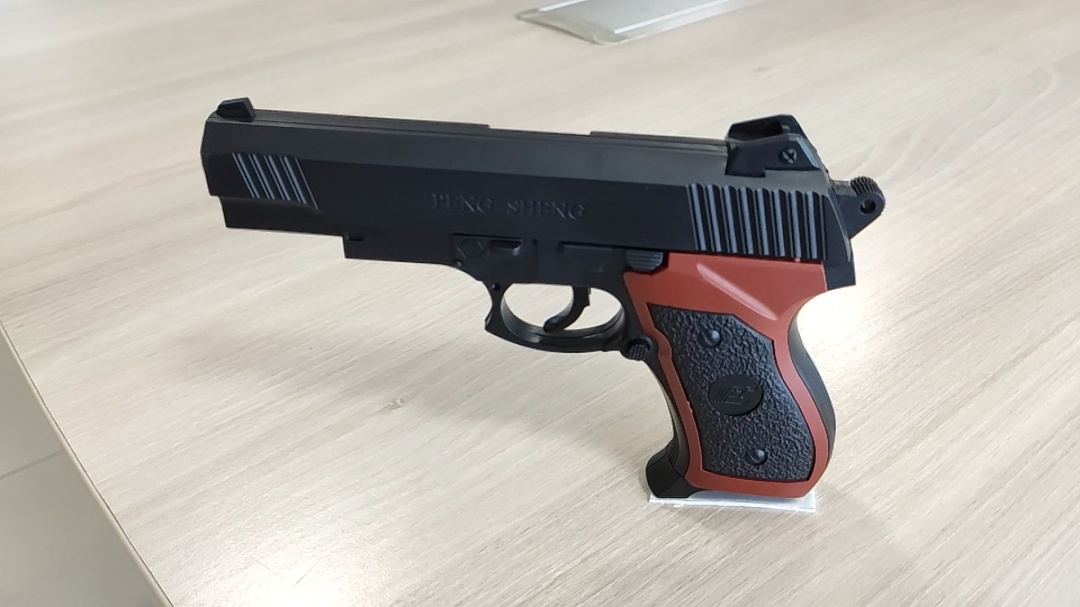gun: (197, 95, 887, 505)
